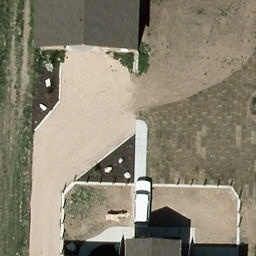car: (135, 178, 154, 225)
